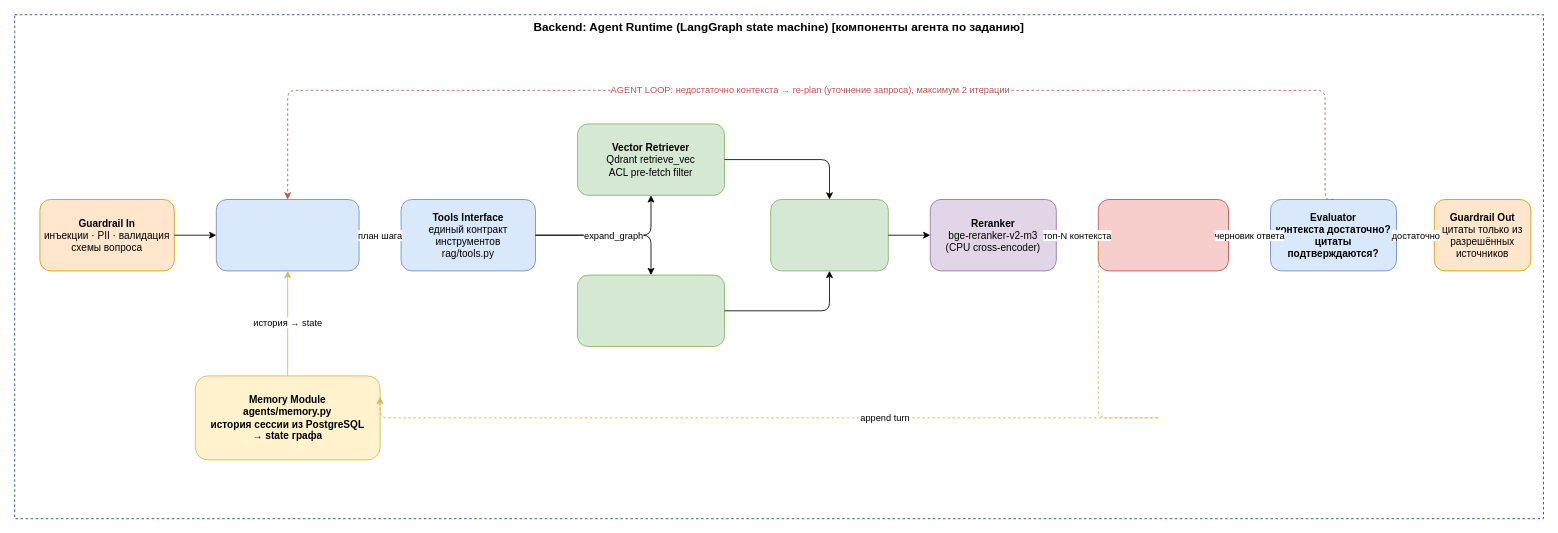
The diagram is 1558 pixels wide and 533 high, and some of its shapes have lost their labels. The centre of each missing label's shape, as x and y in pixels:
Fusion слияние результатов инструментов (RRF): point (829, 235)
Generator vLLM client (OpenAI SDK) SSE-стриминг токенов: point (1162, 235)
Graph Expander Neo4j expand_graph Cypher 1–2 hop · WHERE clearance: point (650, 310)
Planner выбор инструментов и стратегии, учёт истории (Memory): point (287, 235)
